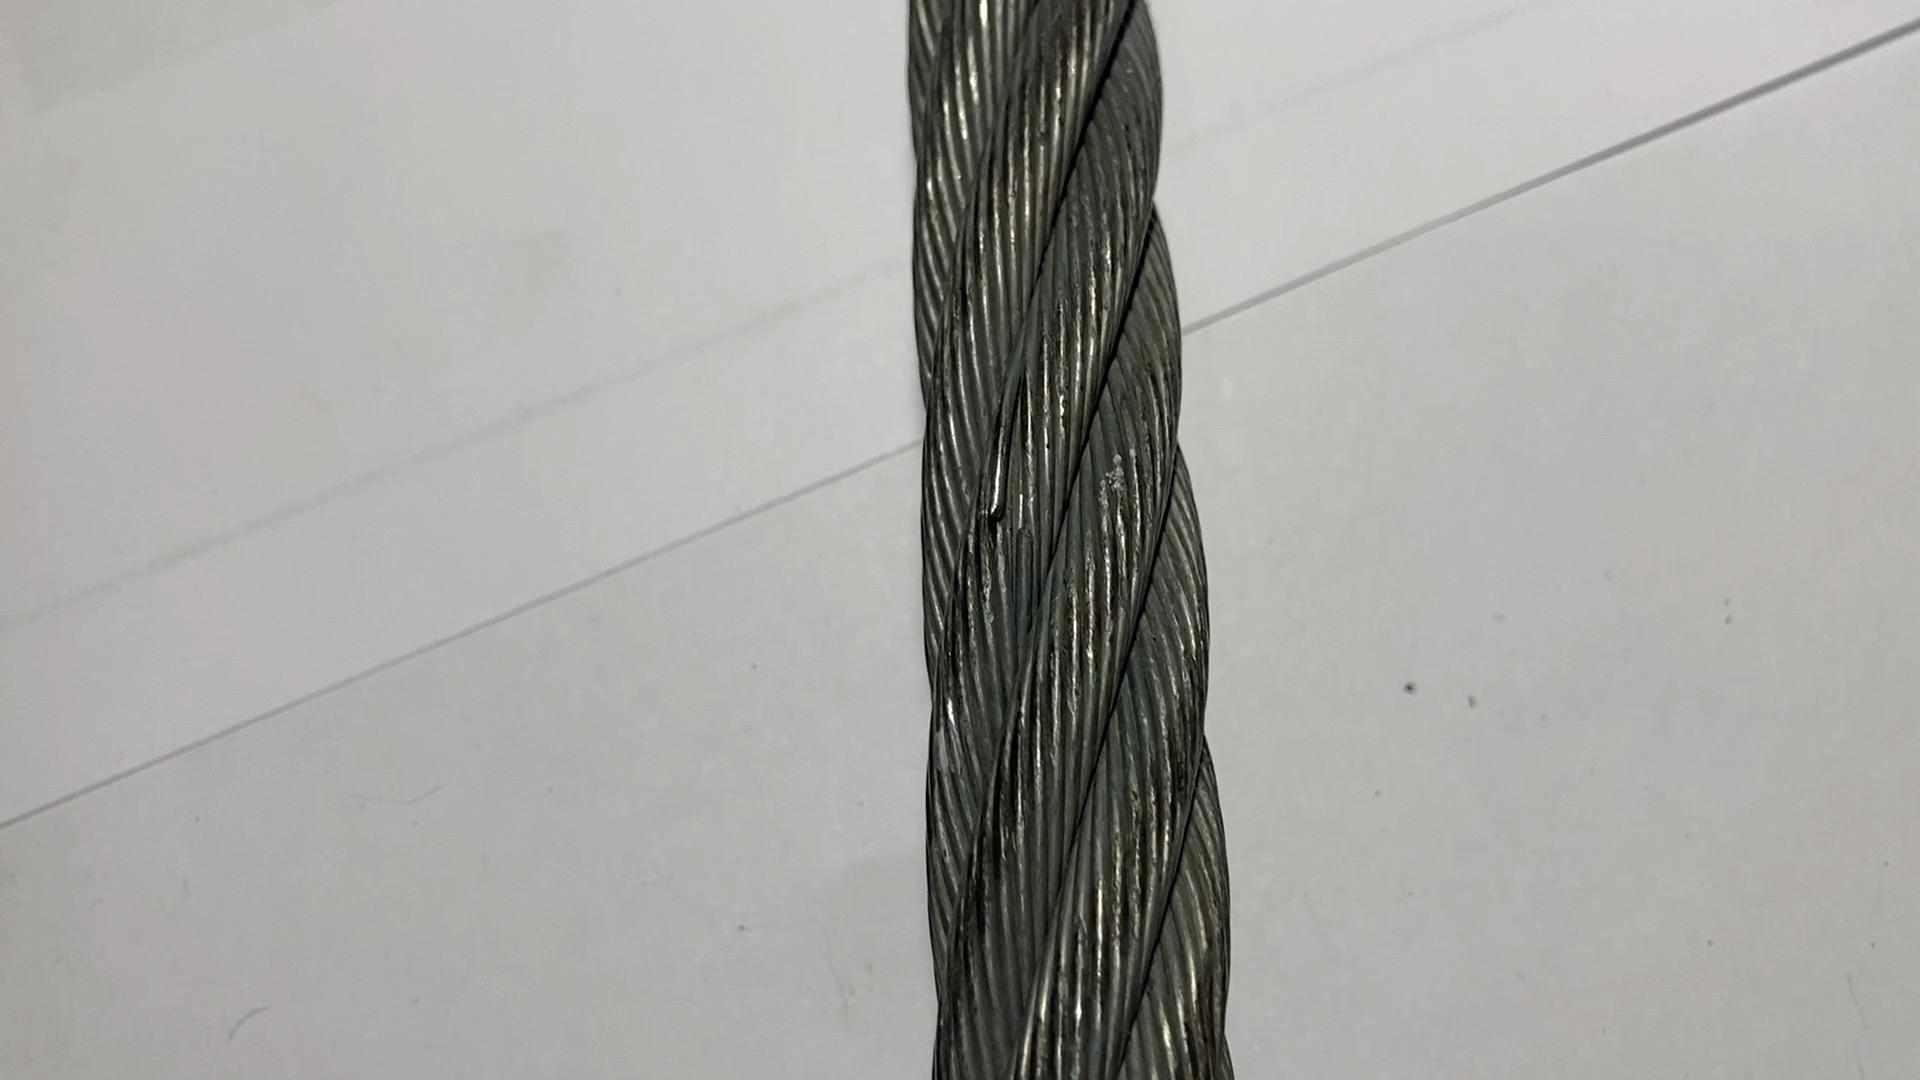break: (965, 469, 1025, 541)
